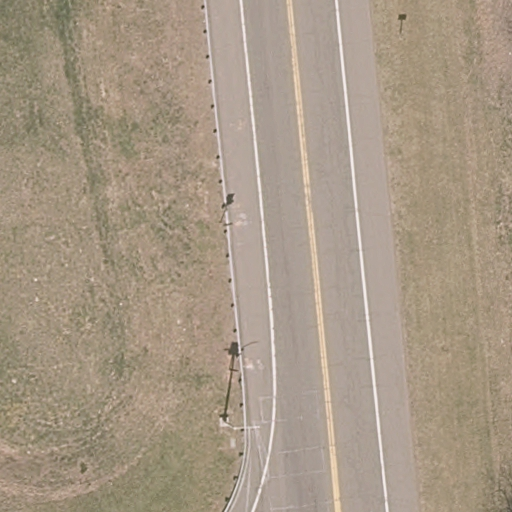DT: (232, 420, 261, 436)
